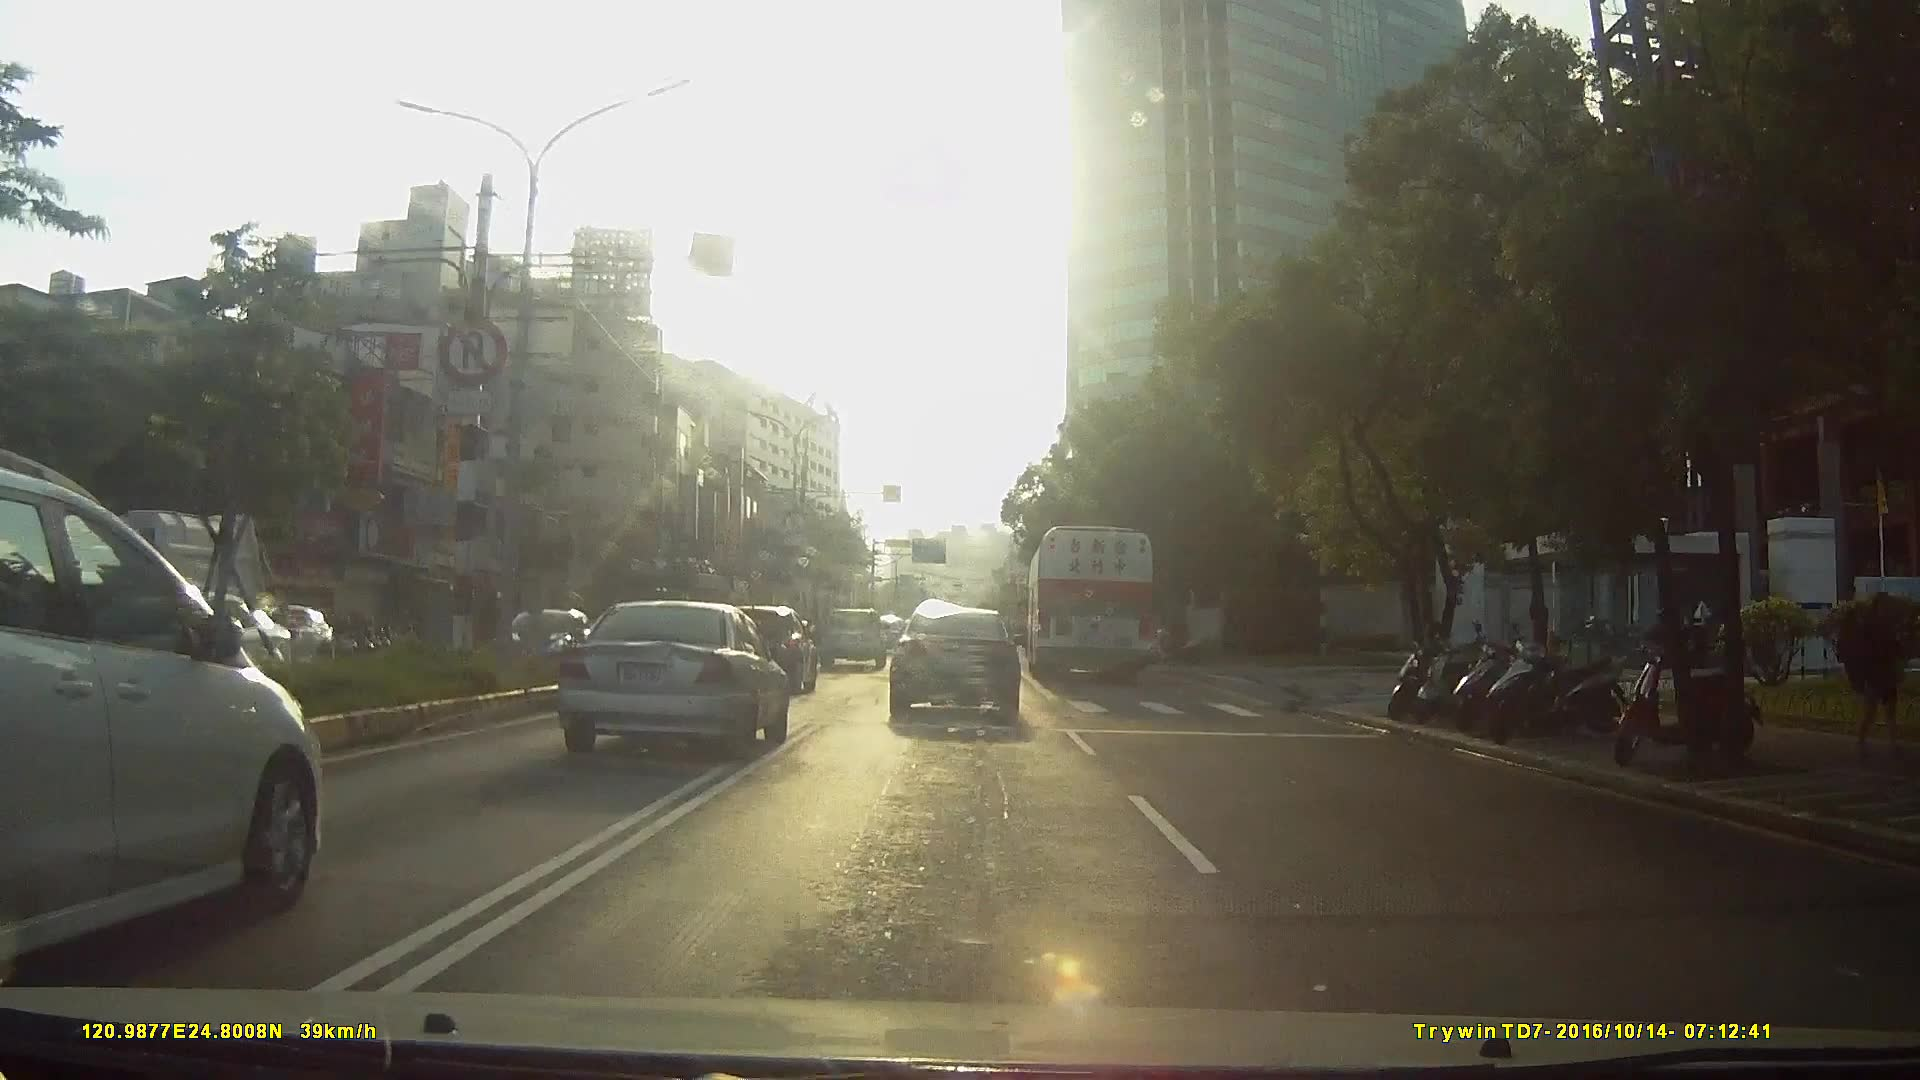pedestrian: (1836, 584, 1914, 764)
vehicle: (1, 459, 349, 978), (250, 556, 684, 868), (18, 496, 244, 677), (545, 599, 786, 763), (1024, 524, 1157, 690), (885, 600, 1022, 725), (819, 607, 887, 674)
